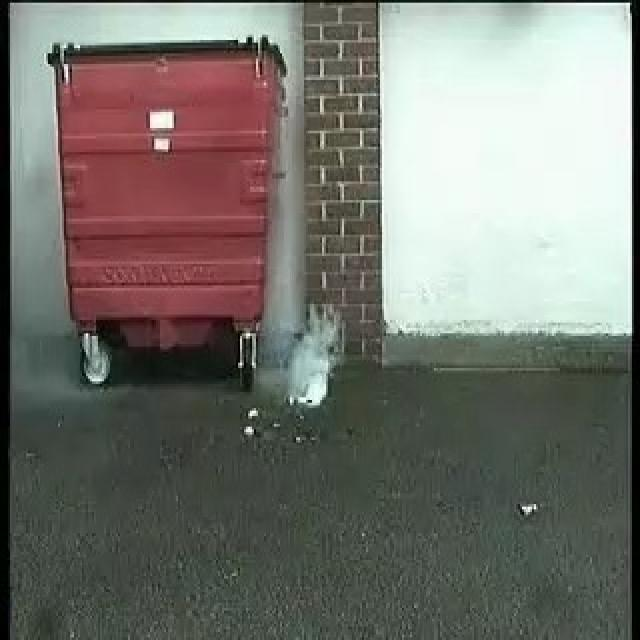smoke: (265, 294, 343, 408)
